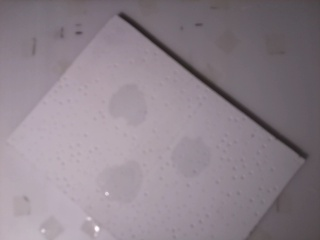Water_detected: (101, 171, 136, 195), (114, 97, 140, 119), (176, 148, 198, 168)
